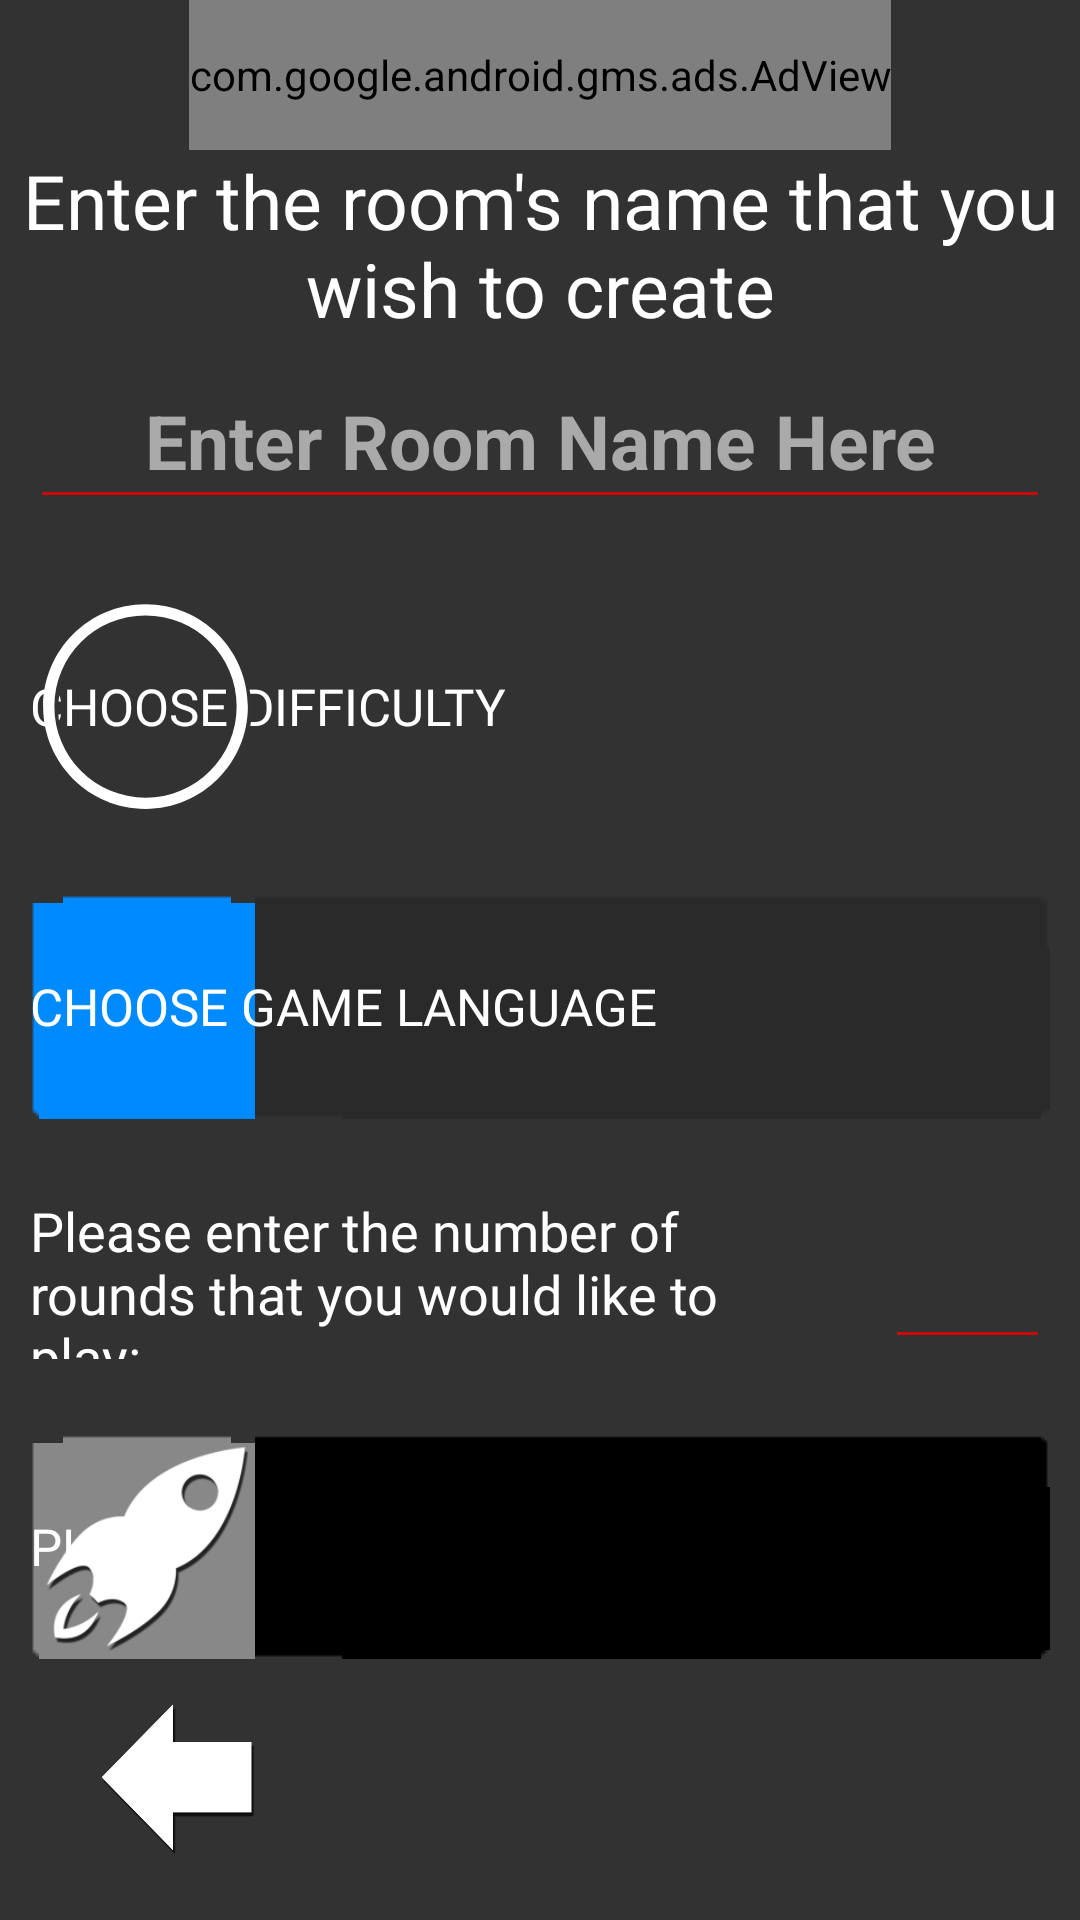

Where to tap for icons on this 1080px x 1920px app screen, as [x,y]:
helper exit: [177,1778]
